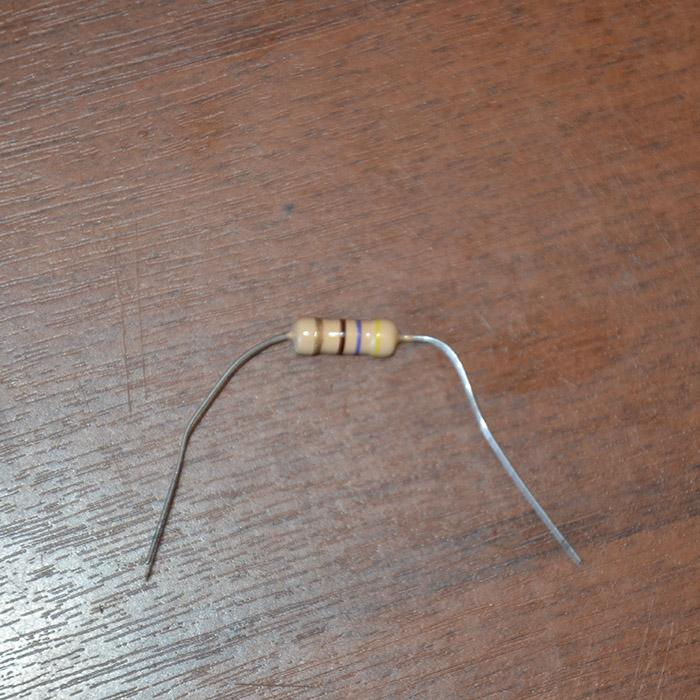resistor: (287, 316, 402, 358)
